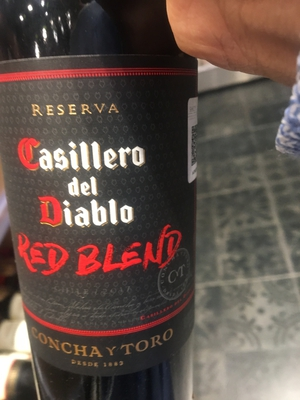casillero del diablo red blend: (1, 11, 209, 400)
